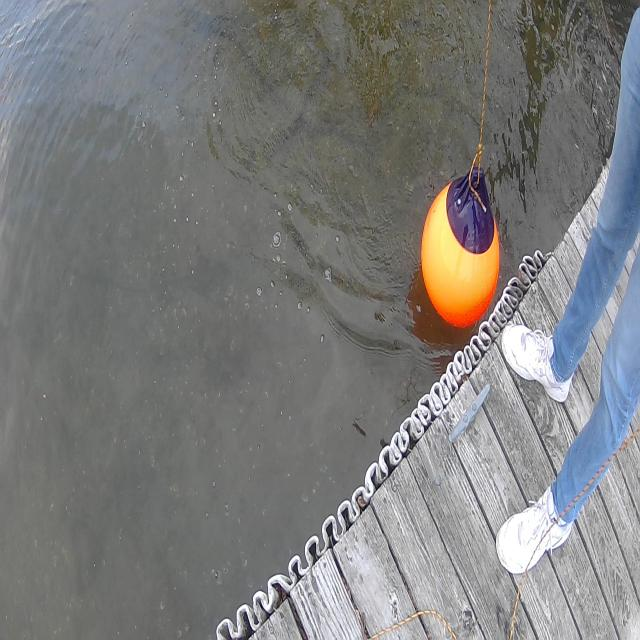Buoy: (416, 158, 507, 348)
